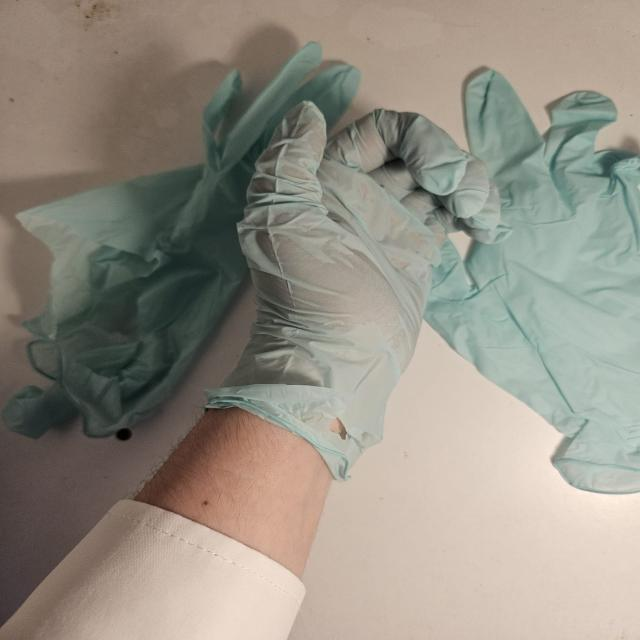gloves_damaged: (202, 96, 506, 484)
